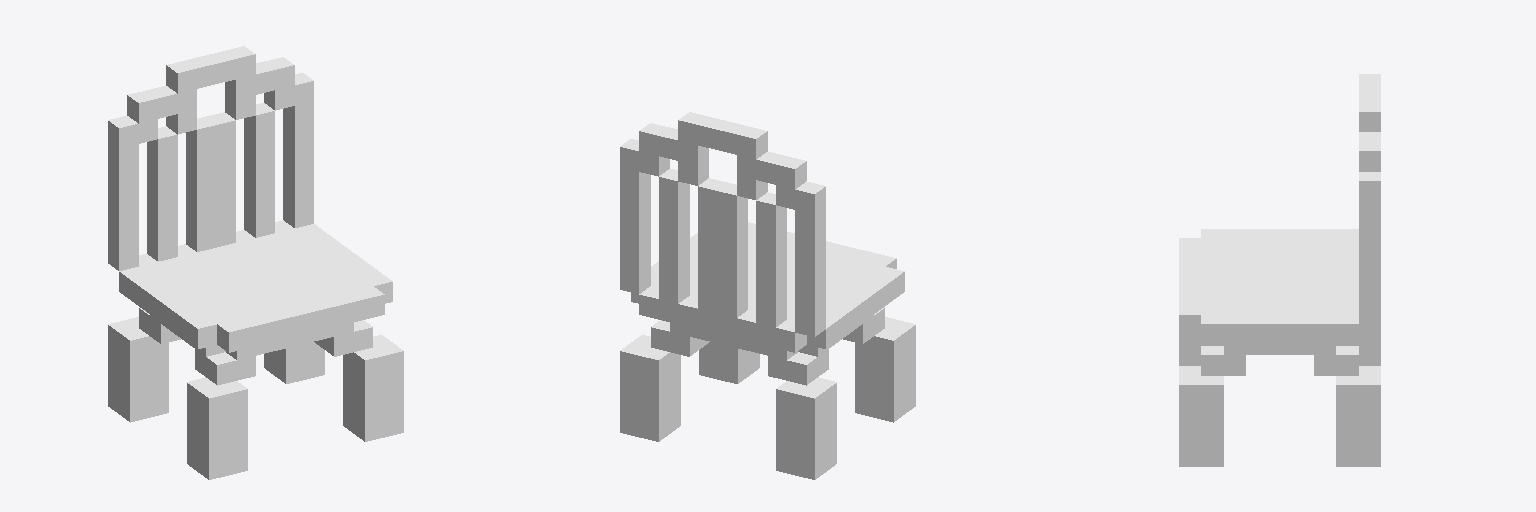
The model's file is chair_2.obj.
3 renders of one model, left to right at view 1: azimuth 30°, elevation 25°; view 2: azimuth 150°, elevation 25°; view 3: azimuth 270°, elevation 25°, orthographic.
Parts seen in each view (by area): view 1: object 1; view 2: object 1; view 3: object 1.
Boxes of the visible parts, x1=… form: object 1: x1=108, y1=46, x2=403, y2=479; object 1: x1=620, y1=112, x2=915, y2=479; object 1: x1=1179, y1=74, x2=1380, y2=466.
Bounding box in the file's own units: 1 × 1.6 × 0.9.